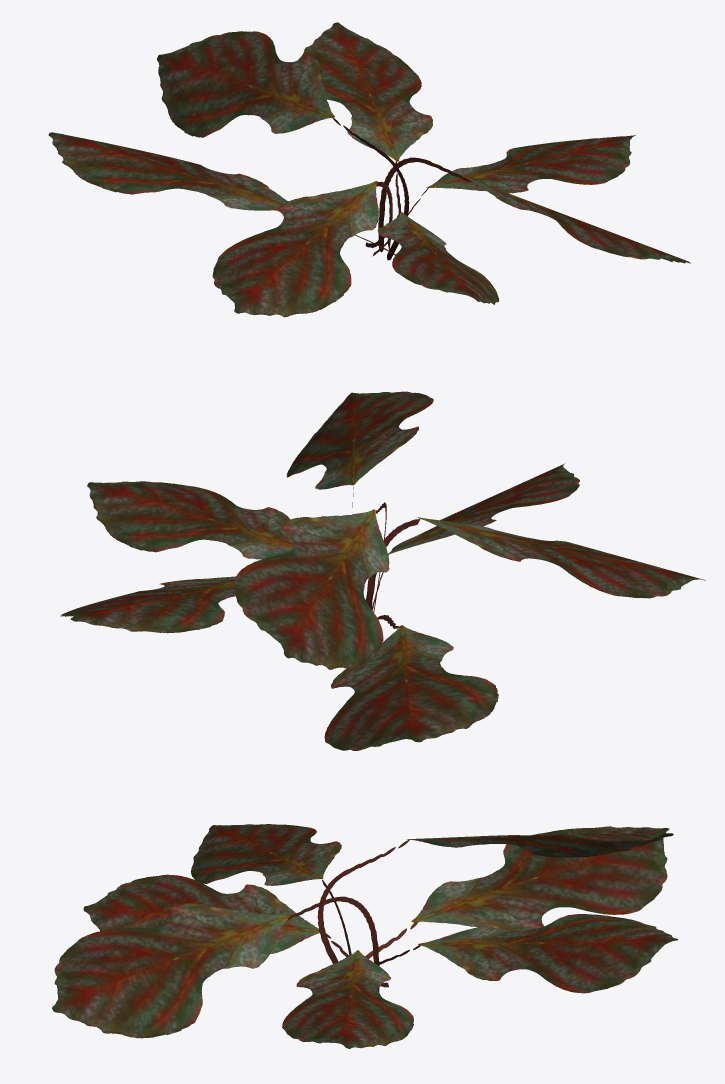
The model's file is Row Root D4.fbx.
3 renders of one model, top to bottom at view 1: azimuth 30°, elevation 25°; view 2: azimuth 150°, elevation 25°; view 3: azimuth 270°, elevation 25°, orthographic. The views are drawn at different scales.
Parts seen in each view (by area): view 1: Row Root D4; view 2: Row Root D4; view 3: Row Root D4.
Part boxes in pixels (x1,y1,x2,y2): Row Root D4: (48, 22, 690, 317); Row Root D4: (60, 391, 705, 750); Row Root D4: (52, 824, 677, 1048).
Bounding box in the file's own units: 179 × 59.65 × 207.
